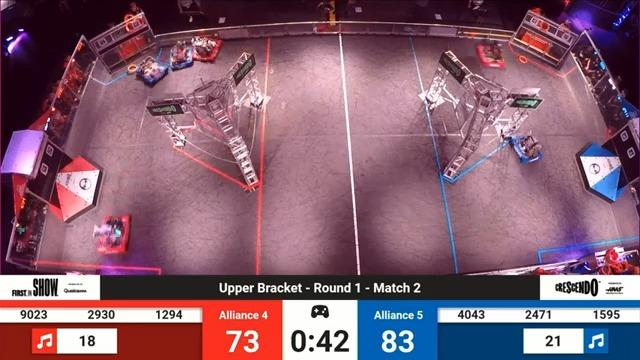robot: (500, 126, 550, 172), (93, 212, 135, 259), (471, 36, 513, 78), (184, 32, 232, 67), (132, 60, 175, 91), (170, 45, 202, 76)
